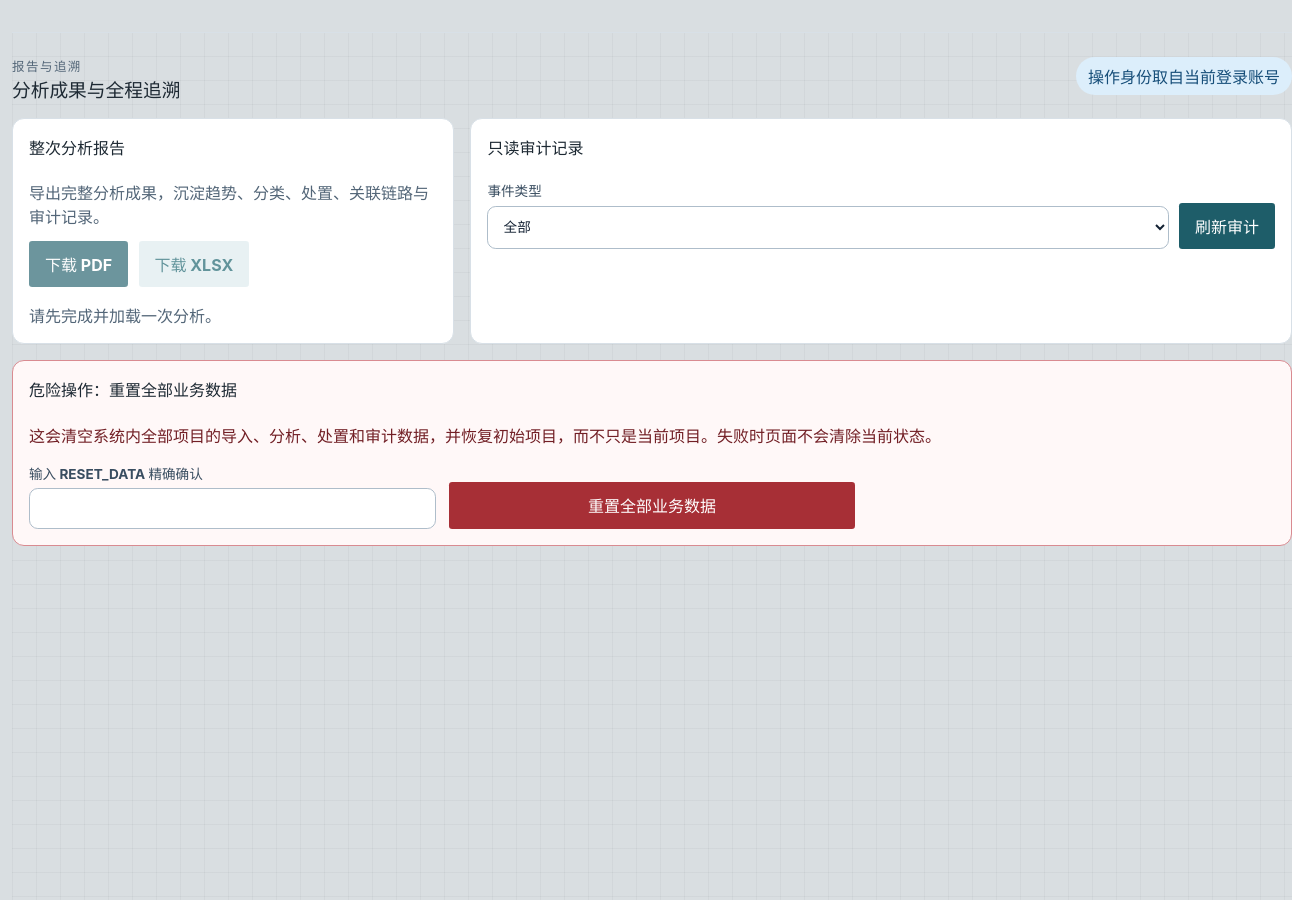
Scenario: M10 人工补录和中文词典 › 审计筛选和表格只显示中文事件及结果
Click the button with test id "audit-refresh" at point(1227, 226), box [1179, 203, 1275, 249]
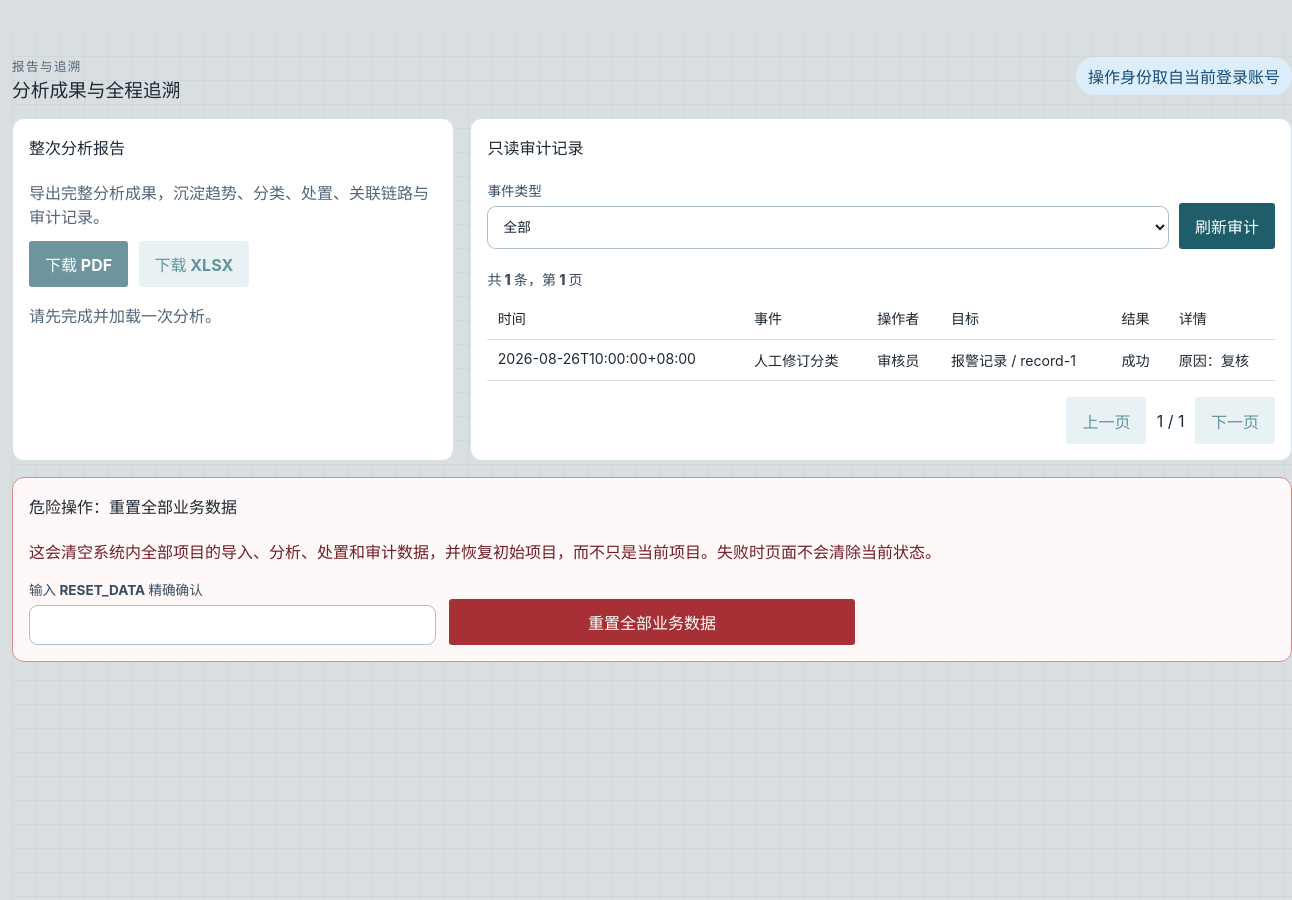
Result: the element with test id "audit-table" shows "人工修订分类" at [754, 352, 838, 369]
Result: the element with test id "audit-table" shows "报警记录" at [951, 352, 1076, 369]
Result: the element with test id "audit-table" shows "成功" at [1121, 352, 1150, 369]
